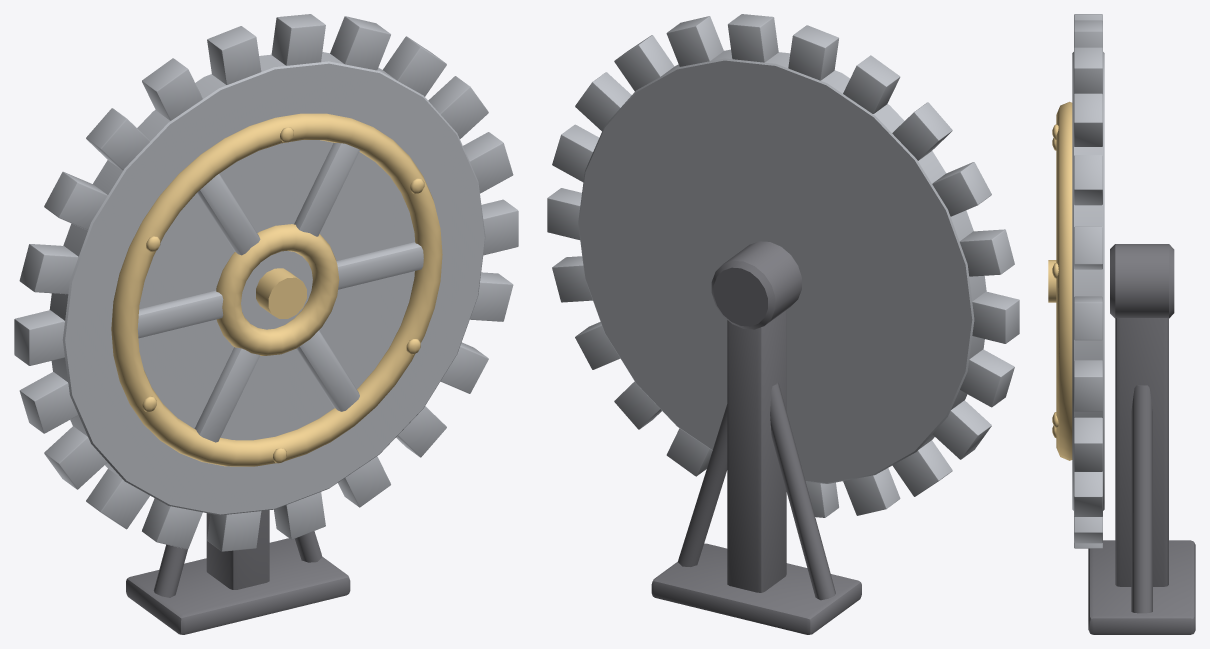
The model's file is bg_cog.glb.
The picture shows the model from 3 angles, left to right: view 1: azimuth 30°, elevation 25°; view 2: azimuth 150°, elevation 25°; view 3: azimuth 270°, elevation 25°; orthographic projection. The views are drawn at different scales.
Visible parts, largest first — view 1: cog, bg_cog; view 2: cog, bg_cog; view 3: bg_cog, cog.
Boxes of the visible parts, <box> form: cog: <box>14,14,518,551</box>; bg_cog: <box>126,510,350,634</box>; cog: <box>547,14,1019,517</box>; bg_cog: <box>651,241,861,634</box>; bg_cog: <box>1088,244,1195,634</box>; cog: <box>1048,14,1104,548</box>.
Size of the model in its own units: 1.99 by 2.3 by 0.55.
